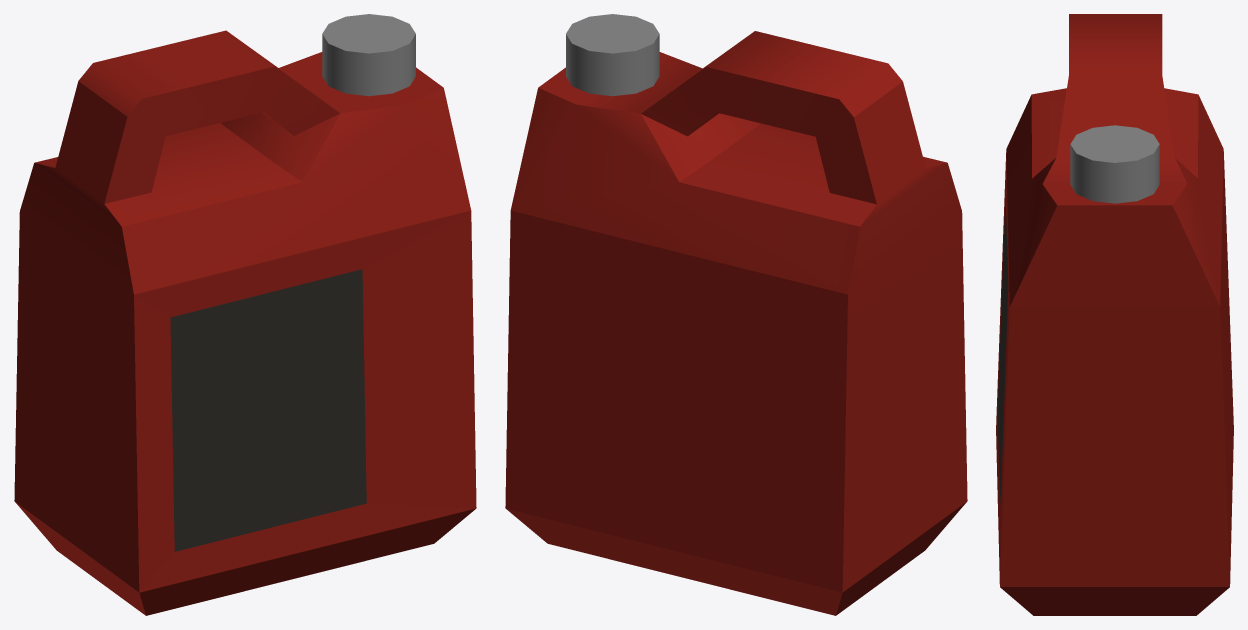
The model's file is jerrycan_01.fbx.
3 renders of one model, left to right at view 1: azimuth 30°, elevation 25°; view 2: azimuth 150°, elevation 25°; view 3: azimuth 270°, elevation 25°, orthographic. The views are drawn at different scales.
Visible parts, largest first — view 1: jerrycan_01; view 2: jerrycan_01; view 3: jerrycan_01.
Boxes of the visible parts, x1,y1,x2,y2 form: jerrycan_01: [14, 14, 476, 615]; jerrycan_01: [505, 14, 967, 615]; jerrycan_01: [996, 14, 1233, 615].
Size of the model in its own units: 45.59 by 63.97 by 29.07.
